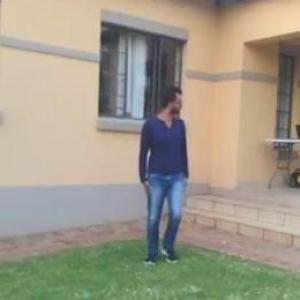follow: (138, 76, 198, 277)
